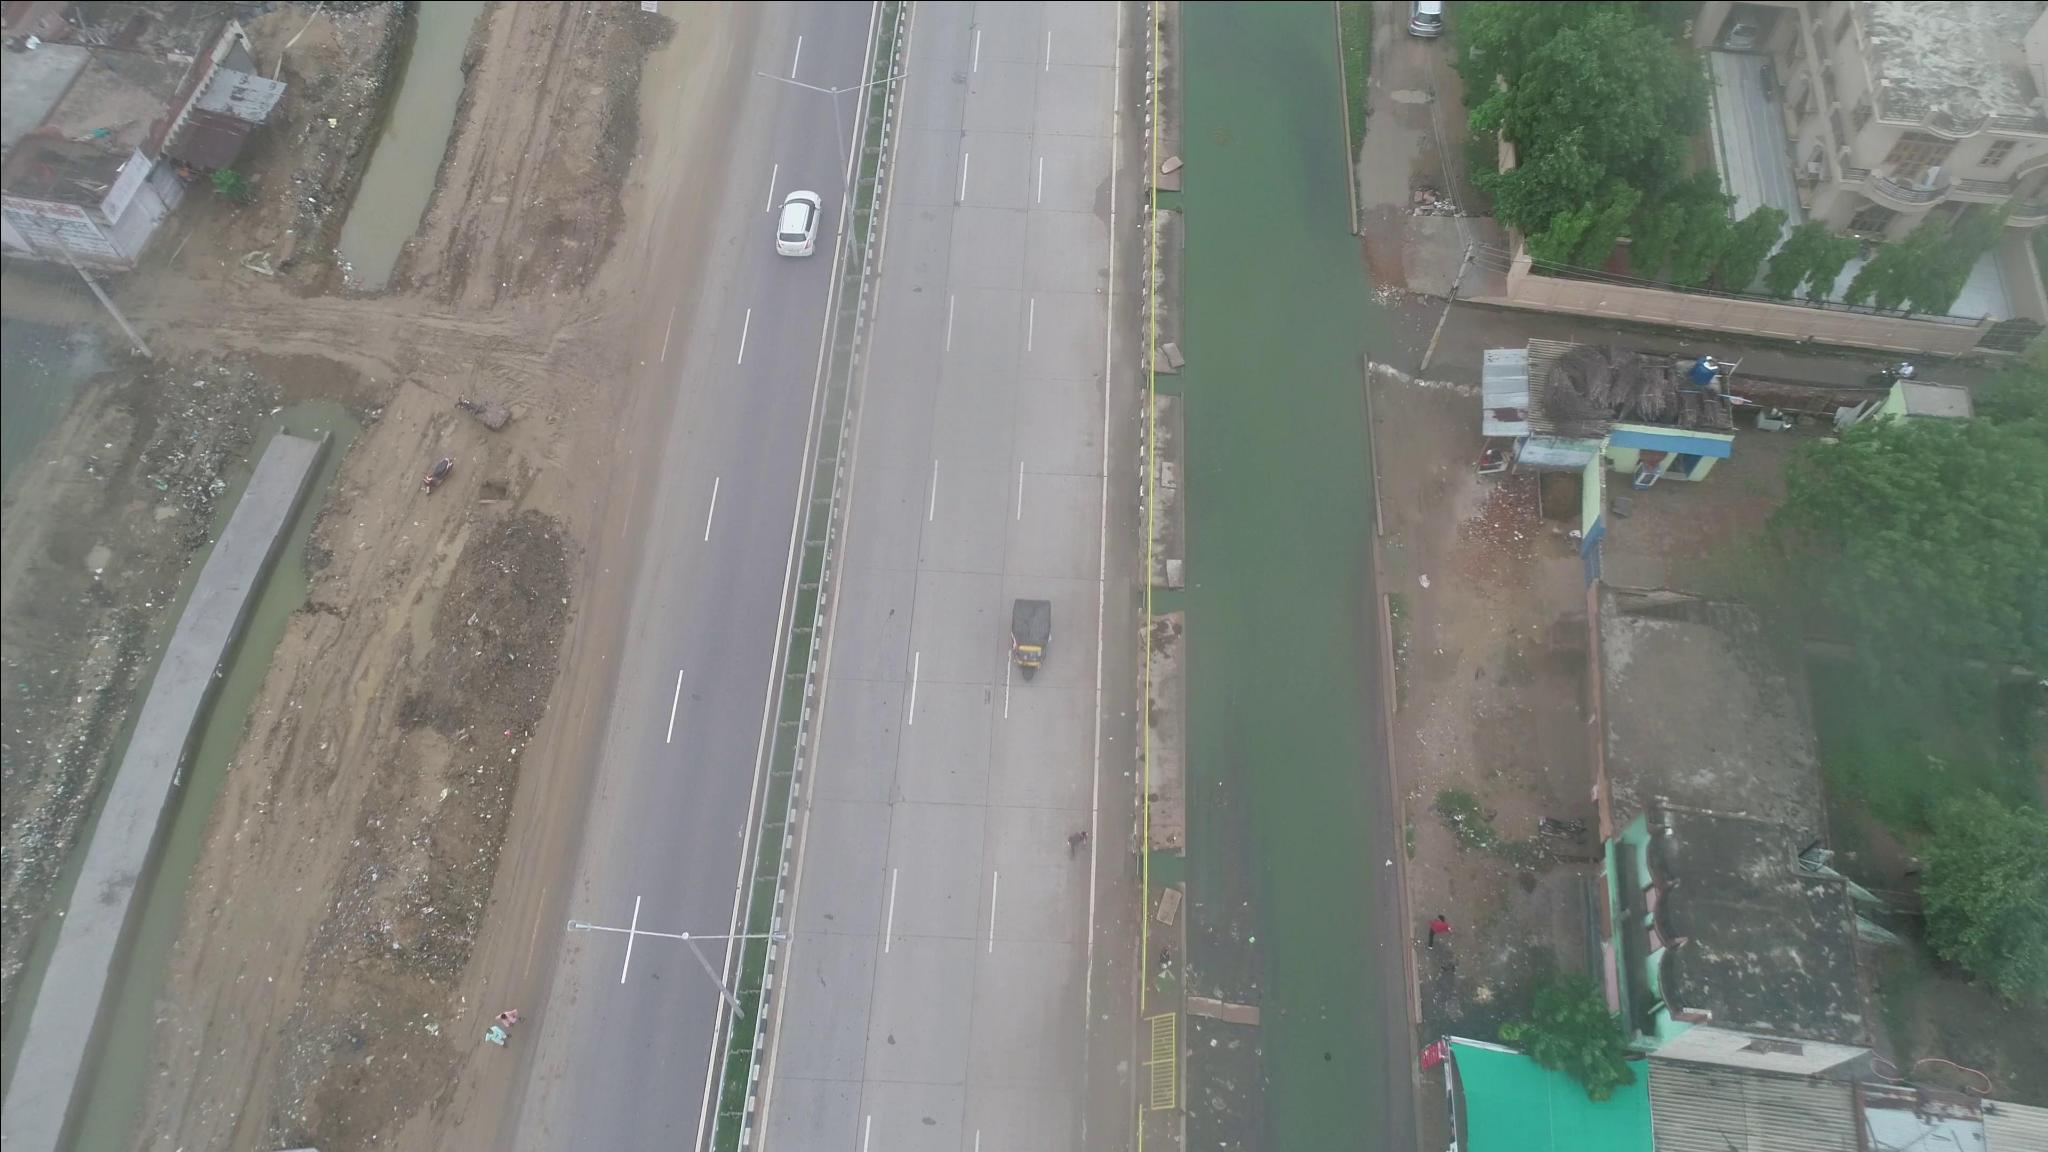Waterlogging: (1194, 459, 1357, 947)
